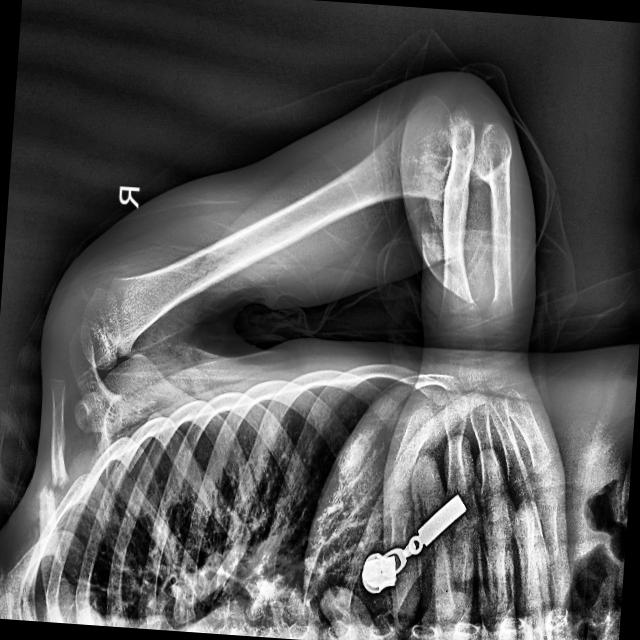Fracture: (34, 456, 74, 511)
